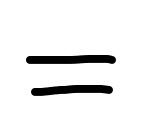eqv: (26, 55, 116, 96)
